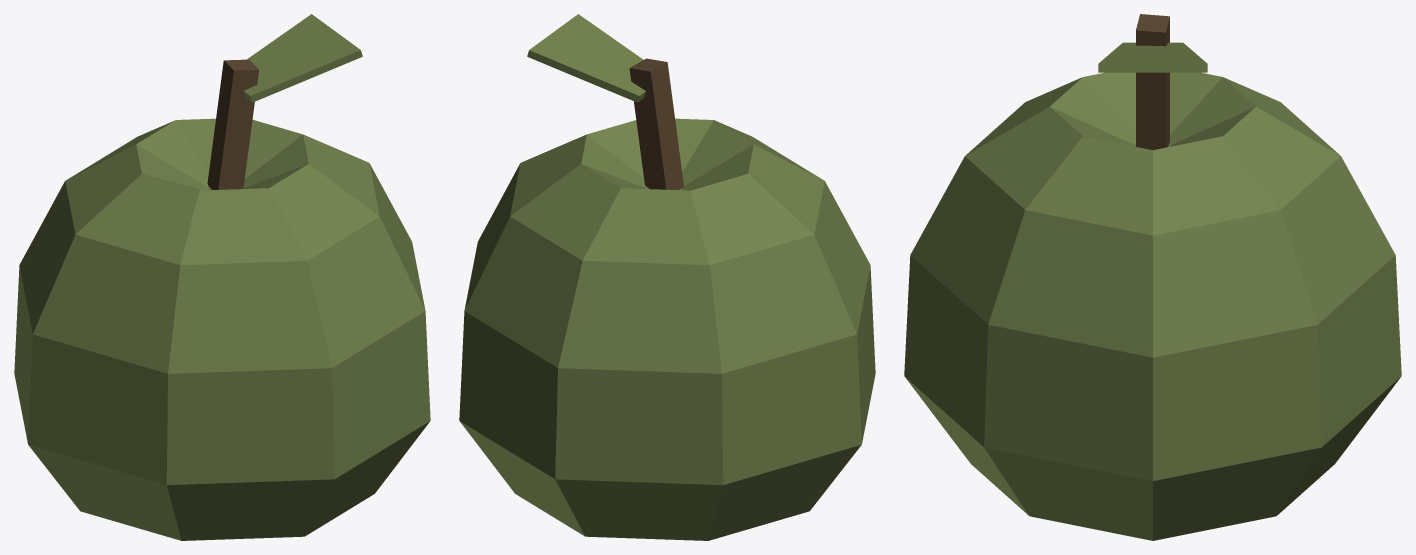
File: FD_Apple_Rotten_01.glb
3 views of the same model, side by side, from view 1: azimuth 30°, elevation 25°; view 2: azimuth 150°, elevation 25°; view 3: azimuth 270°, elevation 25° (orthographic). The views are drawn at different scales.
Visible parts, largest first — view 1: FD_Apple_Rotten_01; view 2: FD_Apple_Rotten_01; view 3: FD_Apple_Rotten_01.
Part boxes in pixels (box(x1,y1,x2,y2)): FD_Apple_Rotten_01: box(14, 14, 430, 540); FD_Apple_Rotten_01: box(459, 14, 875, 540); FD_Apple_Rotten_01: box(904, 14, 1401, 540).
Size of the model in its own units: 0.082 by 0.09 by 0.082.
Materials: 1 (1 with a texture image).
